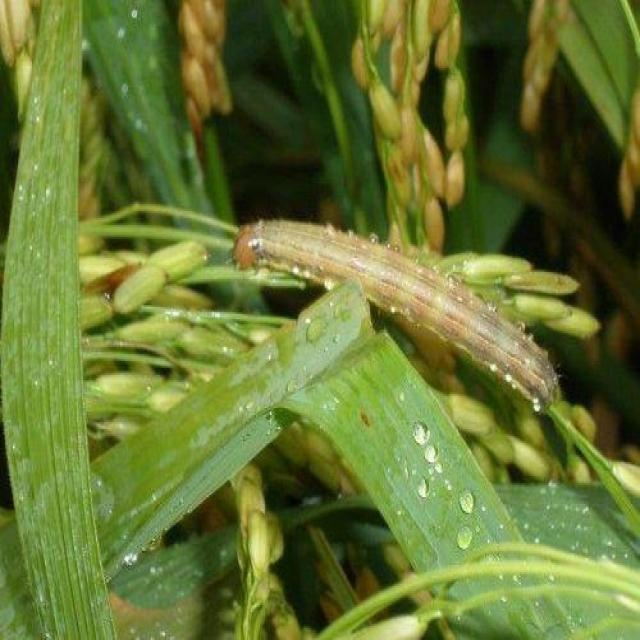army worm: (233, 215, 566, 425)
